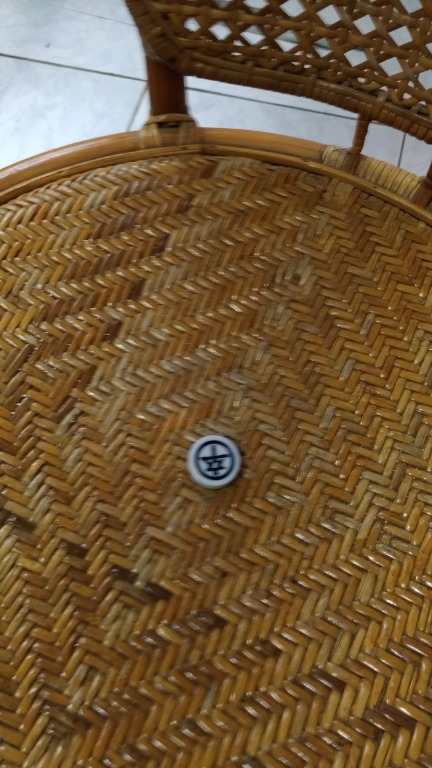b-pawn: (174, 431, 262, 499)
